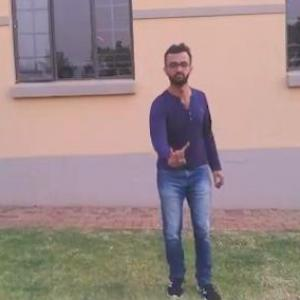takeoff-hand: (164, 136, 193, 172)
